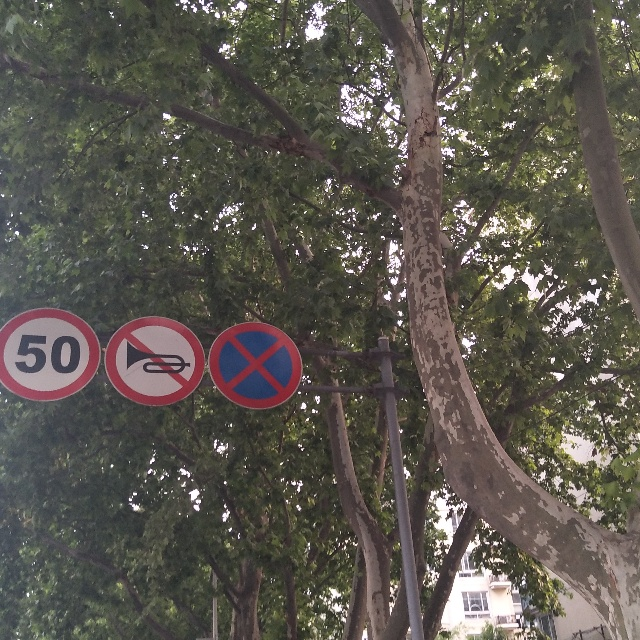nohonk: (104, 317, 206, 407)
stop: (208, 322, 303, 409)
